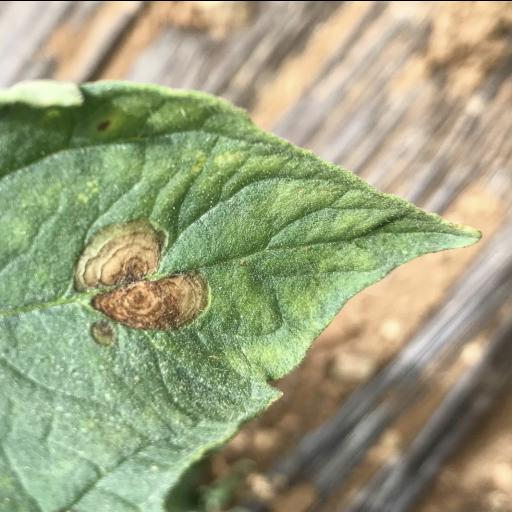Early Blight: (0, 79, 483, 512)
